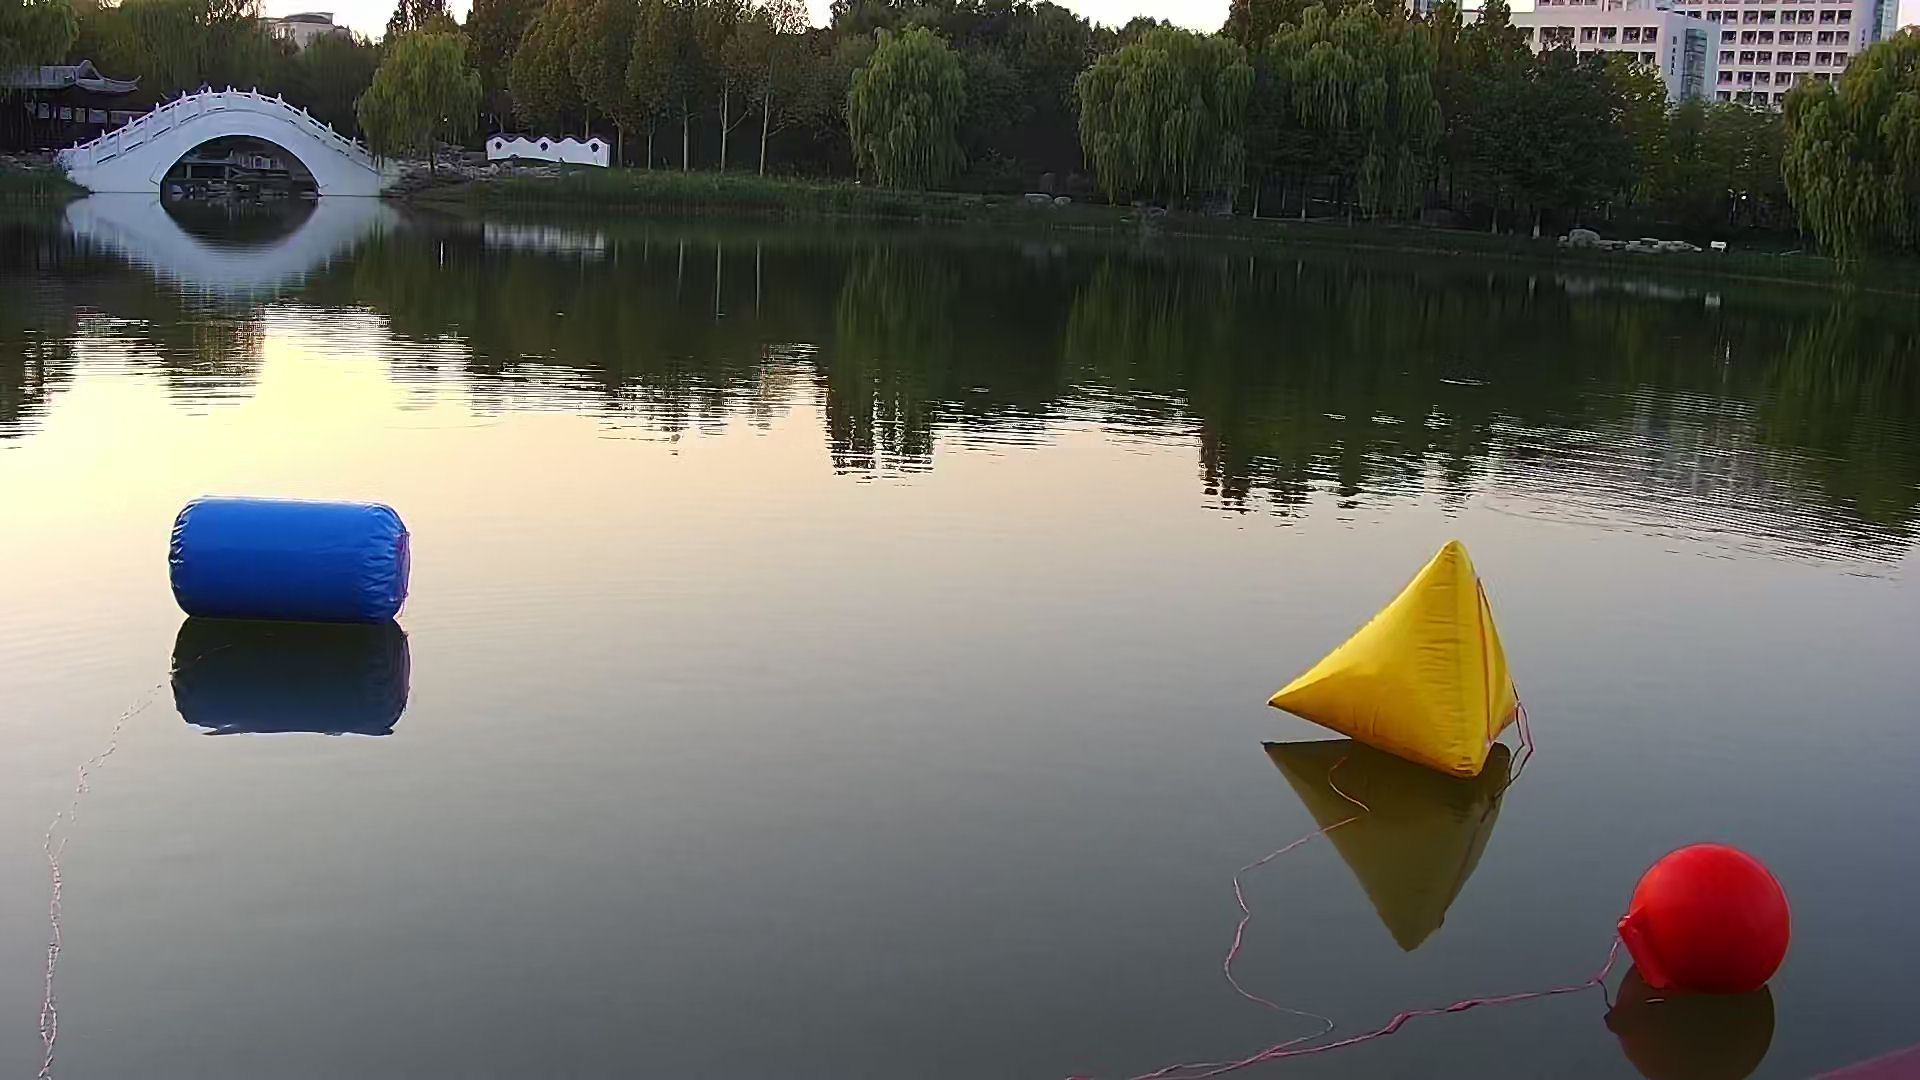ball: (1614, 841, 1791, 1007)
bridge: (62, 69, 388, 198)
rubbish: (1269, 526, 1530, 778), (165, 481, 419, 636)
